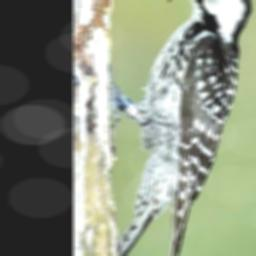Woodpecker: (108, 0, 251, 256)
